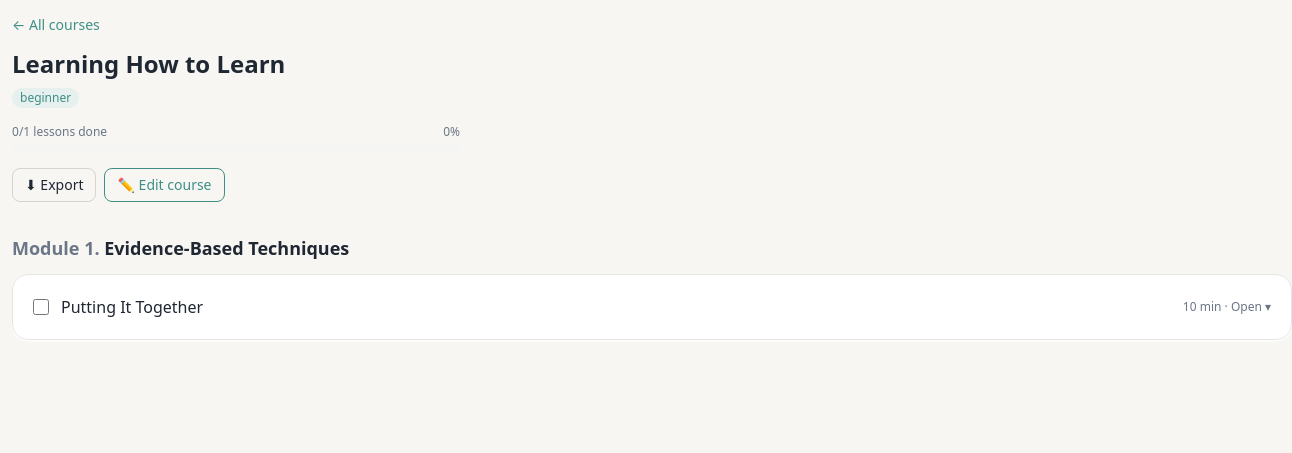
Scenario: CourseDetail — course quizzes (M2) › launches a taken quiz into the player and shows last score + due-for-review
Expand the lesson to reveal its materials.
Click the button "Putting It Together 10 min · Open ▾": (132,307) 61,295 -> 1271,319
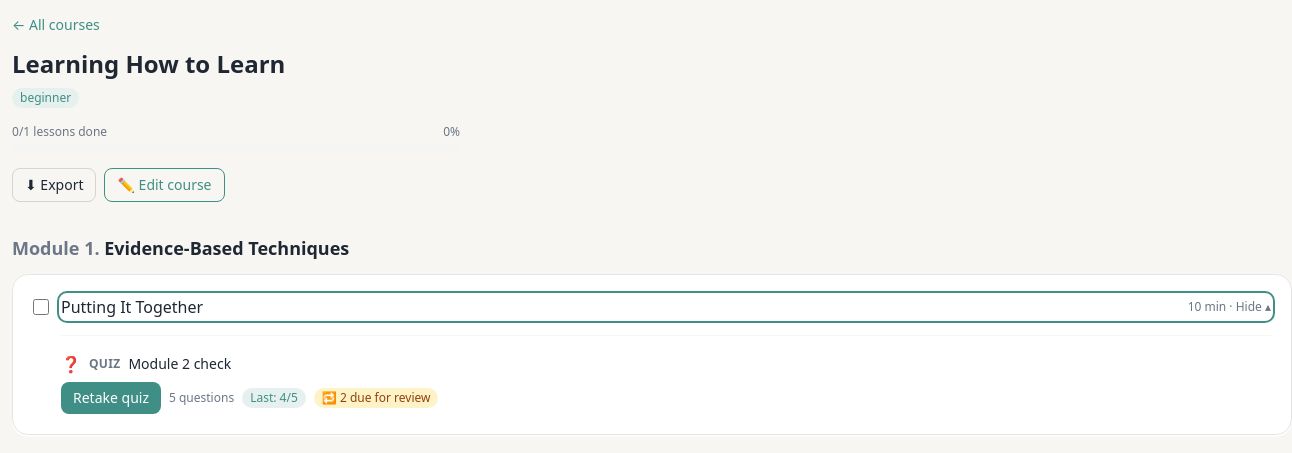
Expected: the text "Last: 4/5" is shown, 242,388 -> 306,408
Expected: the text "🔁 2 due for review" is shown, 314,388 -> 438,408
